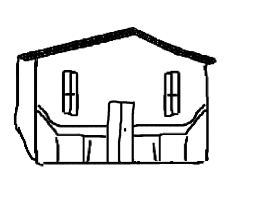closed_window: (58, 67, 84, 121), (158, 66, 184, 117)
door: (103, 95, 138, 169)
single_line_roof: (10, 21, 219, 68)
wall: (31, 59, 213, 171)
